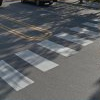crosswalk: (0, 18, 99, 91)
